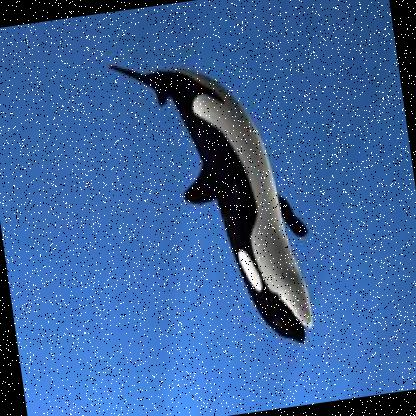killer_whale: (98, 32, 352, 373)
